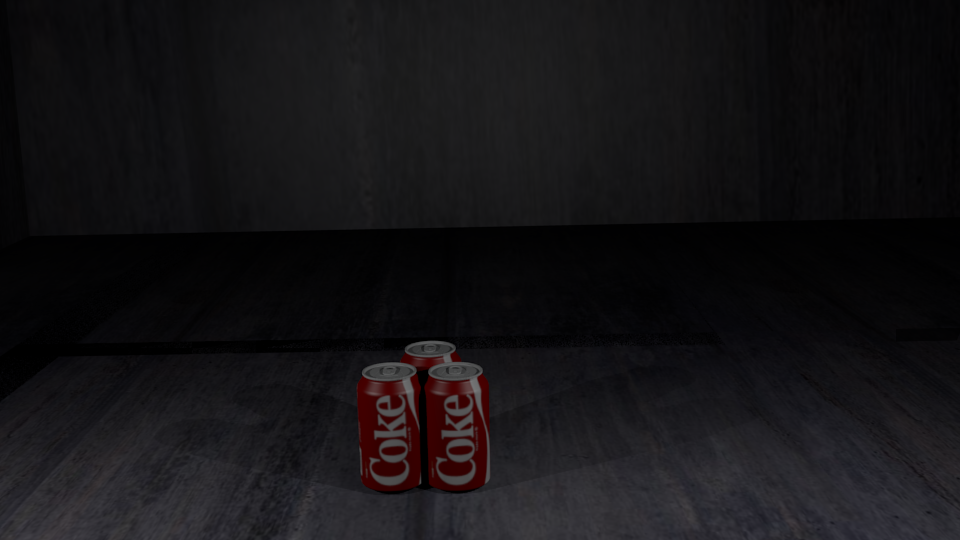cola_can: (357, 363, 423, 488), (423, 362, 489, 486), (400, 341, 460, 459)
